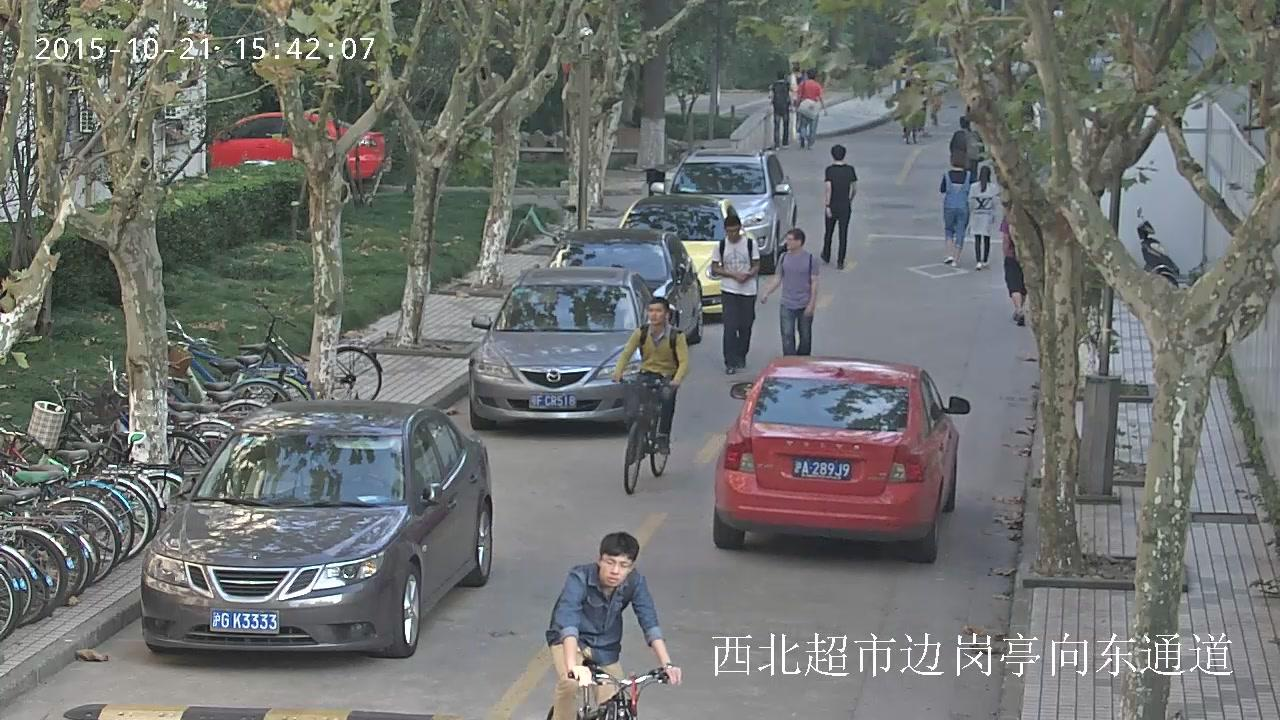person: (543, 528, 683, 720), (542, 529, 682, 720), (611, 296, 689, 497), (609, 295, 688, 463), (709, 214, 762, 374), (761, 225, 817, 353), (819, 144, 856, 270), (998, 203, 1034, 328), (967, 164, 1002, 271), (940, 154, 972, 266), (794, 68, 827, 150), (948, 115, 987, 181), (768, 69, 794, 151), (891, 66, 910, 93), (929, 89, 942, 126)
